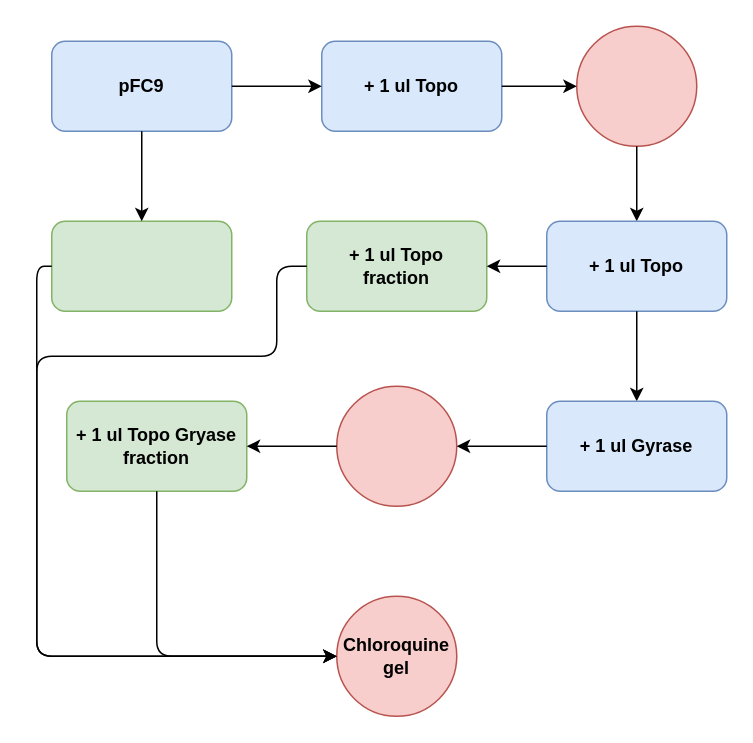
The diagram is 753 pixels wide and 743 high, and some of its shapes have lost their labels. The shapes that lost their labels are listed below. From the top down, each one's box as (x1, y1, x2, y2) in pixels, then its label:
(575, 25, 697, 146): 30 mins 37C 10 mins 65C
(50, 220, 232, 311): pFC9 control fraction
(335, 385, 457, 506): 30 mins 37C 10 mins 65 C
